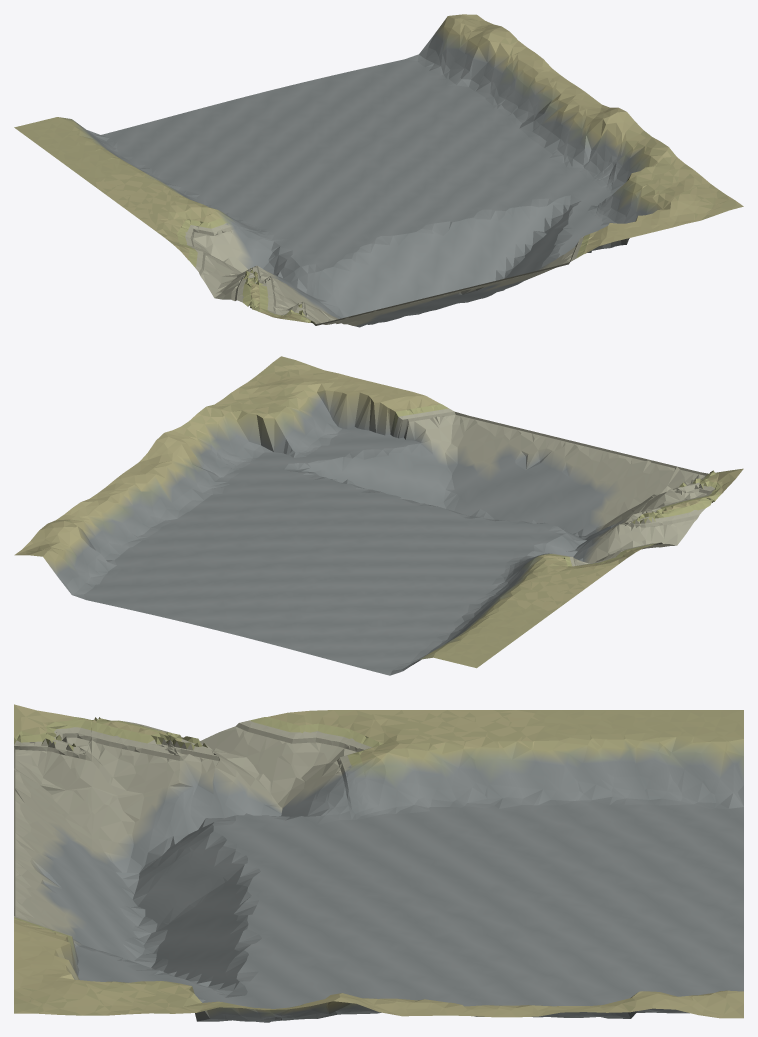
File: Ground_1_-2_lake48.glb
The picture shows the model from 3 angles, top to bottom: view 1: azimuth 30°, elevation 25°; view 2: azimuth 150°, elevation 25°; view 3: azimuth 270°, elevation 25°; orthographic projection. The views are drawn at different scales.
Parts seen in each view (by area): view 1: Ground_1_-2; view 2: Ground_1_-2; view 3: Ground_1_-2.
Part boxes in pixels (x1=…): Ground_1_-2: x1=14, y1=14, x2=743, y2=327; Ground_1_-2: x1=14, y1=356, x2=743, y2=675; Ground_1_-2: x1=14, y1=704, x2=743, y2=1022.
Size of the model in its own units: 768 by 130 by 768.
